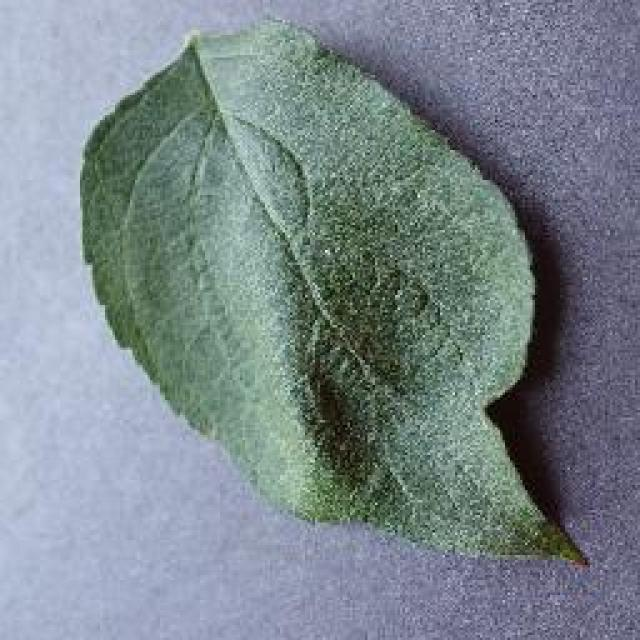apple healthy: (78, 12, 590, 568)
